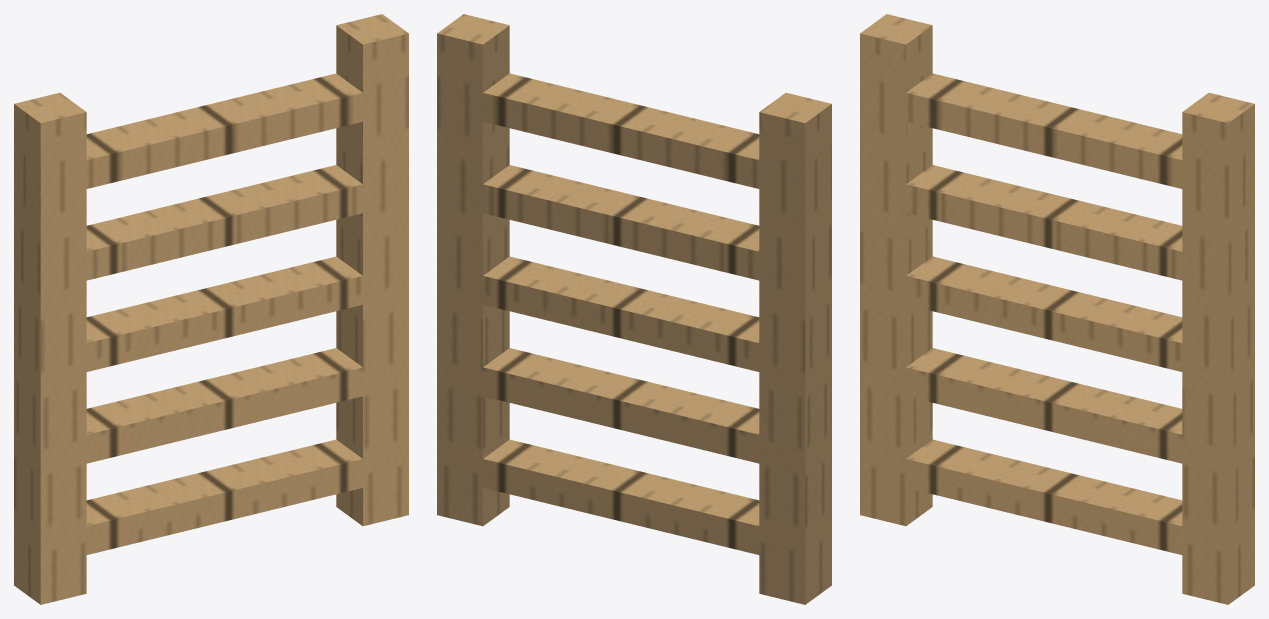
File: ladder.glb
3 views of the same model, side by side, from view 1: azimuth 30°, elevation 25°; view 2: azimuth 150°, elevation 25°; view 3: azimuth 330°, elevation 25° (orthographic).
Parts seen in each view (by area): view 1: ladder; view 2: ladder; view 3: ladder.
Boxes of the visible parts, x1,y1,x2,y2 form: ladder: [14, 14, 408, 604]; ladder: [437, 14, 831, 604]; ladder: [860, 14, 1254, 604].
Bounding box in the file's own units: 0.8 × 1 × 0.1.
1 material, 1 textured.
